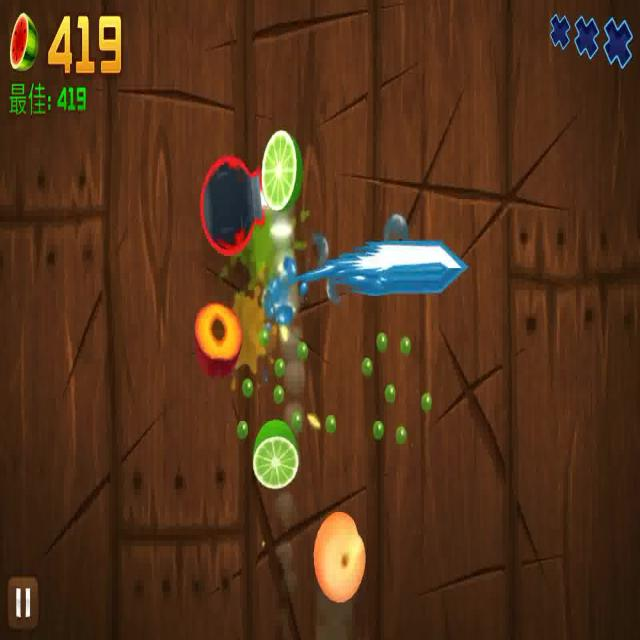bomb: (199, 153, 268, 254)
fruit: (313, 510, 366, 602), (192, 300, 242, 378), (262, 126, 301, 211), (252, 420, 300, 489)
